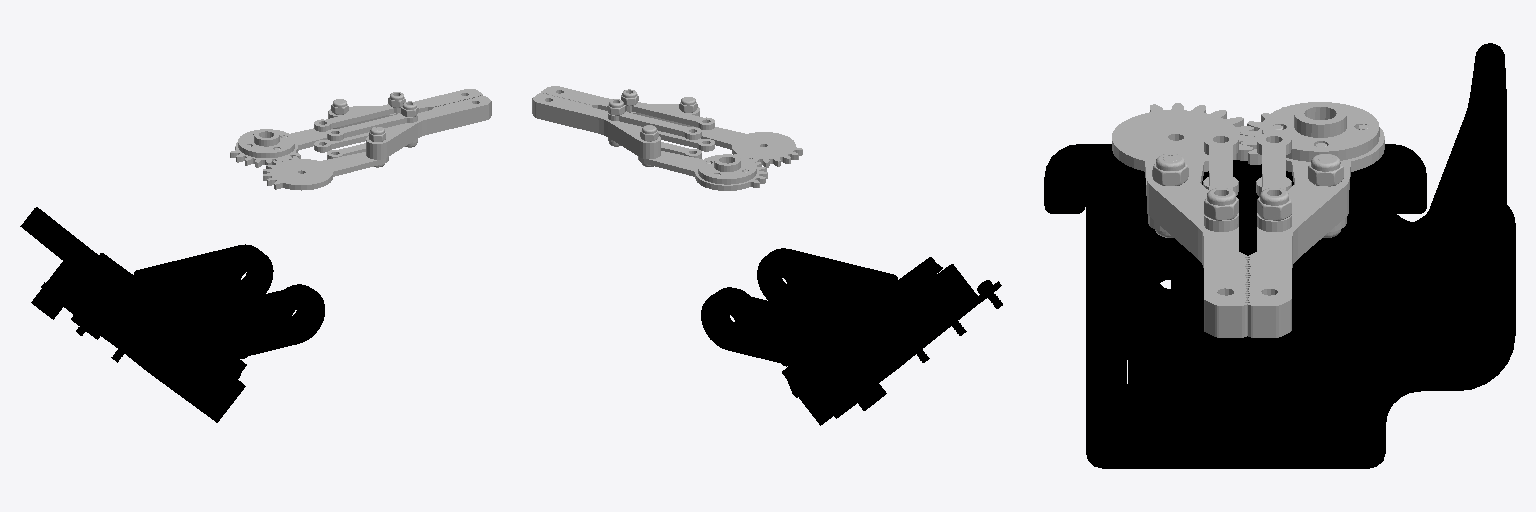
URDF robot description (transbot_description):
<?xml version="1.0" encoding="utf-8"?>
<!-- This URDF was automatically created by SolidWorks to URDF Exporter! Originally created by [author] ([email redacted]) 
     Commit Version: 1.6.0-1-g15f4949  Build Version: 1.6.7594.29634
     For more information, please see http://wiki.ros.org/sw_urdf_exporter -->
<robot name="transbot_description">
    <link name="base_footprint"/>
    <link name="base_link">
        <inertial>
            <origin xyz="-0.011 0.0002 -0.00832" rpy="0 0 0"/>
            <mass value="1.1011218463245"/>
            <inertia
                    ixx="0.00683403160871643"
                    ixy="-1.43326126624159E-06"
                    ixz="0.000665507738691208"
                    iyy="0.0091844048006001"
                    iyz="3.7191085325542E-06"
                    izz="0.0114582299070878"/>
        </inertial>
        <visual>
            <origin xyz="0 0 0" rpy="0 0 -1.5708"/>
            <geometry>
                <mesh filename="package://transbot_description/meshes/base_link.STL"/>
            </geometry>
            <material name="">
                <color rgba="0 0.7 0 1"/>
            </material>
        </visual>
        <collision>
            <origin xyz="0 0 0" rpy="0 0 -1.5708"/>
            <geometry>
                <mesh filename="package://transbot_description/meshes/base_link.STL"/>
            </geometry>
        </collision>
    </link>
    <joint name="base_joint" type="fixed">
        <parent link="base_footprint"/>
        <child link="base_link"/>
        <origin xyz="0.0 0.0 0.08" rpy="0 0 0"/>
    </joint>
    <link name="astra_link">
        <inertial>
            <origin xyz="0.0003 -3.63185E-06 -0.01238" rpy="0 0 0"/>
            <mass value="0.249477026881758"/>
            <inertia
                    ixx="0.000512759440122099"
                    ixy="3.59531977965561E-08"
                    ixz="-7.77105312830466E-06"
                    iyy="0.000168771991127263"
                    iyz="4.52266817392523E-08"
                    izz="0.000428421579554258"/>
        </inertial>
        <visual>
            <origin xyz="0 0 0" rpy="0 0 0"/>
            <geometry>
                <mesh filename="package://transbot_description/meshes/astra_link.STL"/>
            </geometry>
            <material name="">
                <color rgba="0.7 0.7 0.7 1"/>
            </material>
        </visual>
        <collision>
            <origin xyz="0 0 0" rpy="0 0 0"/>
            <geometry>
                <mesh filename="package://transbot_description/meshes/astra_link.STL"/>
            </geometry>
        </collision>
    </link>
    <joint name="astra_joint" type="revolute">
        <origin xyz="0.0484 0 0.10494" rpy="0 0 0"/>
        <parent link="base_link"/>
        <child link="astra_link"/>
        <axis xyz="0 0 1"/>
        <limit lower="-0.52358" upper="0.52358" effort="100" velocity="1"/>
    </joint>
    <link name="arm">
        <inertial>
            <origin xyz="-0.006174 8.44369E-05 0.0132" rpy="0 0 0"/>
            <mass value="0.067681113134478"/>
            <inertia
                    ixx="2.68497509518873E-05"
                    ixy="-3.33020165981552E-06"
                    ixz="-9.65563060195426E-07"
                    iyy="3.51677567732461E-05"
                    iyz="-4.72072757937217E-06"
                    izz="4.4994530861743E-05"/>
        </inertial>
        <visual>
            <origin xyz="0 0 0" rpy="0 0 0"/>
            <geometry>
                <mesh filename="package://transbot_description/meshes/arm.STL"/>
            </geometry>
            <material name="">
                <color rgba="0 0 0 1"/>
            </material>
        </visual>
        <collision>
            <origin xyz="0 0 0" rpy="0 0 0"/>
            <geometry>
                <mesh filename="package://transbot_description/meshes/arm.STL"/>
            </geometry>
        </collision>
    </link>
    <joint name="arm_joint" type="fixed">
        <origin xyz="0.12925 0 -0.014083" rpy="-0.7854 0 -1.5708"/>
        <parent link="base_link"/>
        <child link="arm"/>
        <axis xyz="0 0 0"/>
    </joint>
    <link name="arm_link1">
        <inertial>
            <origin xyz="-0.00227 0.024777 0.000485" rpy="0 1.5708 0"/>
            <mass value="0.0315348657457593"/>
            <inertia
                    ixx="2.62365924906028E-05"
                    ixy="-8.71620806198248E-07"
                    ixz="3.70960358896292E-09"
                    iyy="5.75254728345384E-06"
                    iyz="1.32494709462361E-07"
                    izz="2.43479091390021E-05"/>
        </inertial>
        <visual>
            <origin xyz="0 0 0" rpy="0 0 0"/>
            <geometry>
                <mesh filename="package://transbot_description/meshes/arm_link1.STL"/>
            </geometry>
            <material name="">
                <color rgba="0.75294 0.75294 0.75294 1"/>
            </material>
        </visual>
        <collision>
            <origin xyz="0 0 0" rpy="0 0 0"/>
            <geometry>
                <mesh filename="package://transbot_description/meshes/arm_link1.STL"/>
            </geometry>
        </collision>
    </link>
    <joint name="arm_joint1" type="revolute">
        <origin xyz="0 0.0295 0.0471" rpy="0 -1.5708 3.14"/>
        <parent link="arm"/>
        <child link="arm_link1"/>
        <axis xyz="0 0 1"/>
        <limit lower="-3.927" upper="0" effort="100" velocity="1"/>
    </joint>
    <link name="arm_link2">
        <inertial>
            <origin xyz="-0.012 0.04428 -0.00083" rpy="0 0 0"/>
            <mass value="0.064068284960248"/>
            <inertia
                    ixx="5.32496834034383E-05"
                    ixy="1.14801087297394E-05"
                    ixz="-7.21376567958445E-07"
                    iyy="1.94399604109465E-05"
                    iyz="1.57043385958373E-06"
                    izz="5.71389111747307E-05"/>
        </inertial>
        <visual>
            <origin xyz="0 0 0" rpy="0 0 0"/>
            <geometry>
                <mesh filename="package://transbot_description/meshes/arm_link2.STL"/>
            </geometry>
            <material name="">
                <color rgba="0 0.7 0 1"/>
            </material>
        </visual>
        <collision>
            <origin xyz="0 0 0" rpy="0 0 0"/>
            <geometry>
                <mesh filename="package://transbot_description/meshes/arm_link2.STL"/>
            </geometry>
        </collision>
    </link>
    <joint name="arm_joint2" type="revolute">
        <origin xyz="0 0.08285 0" rpy="0 0 -2.3562"/>
        <parent link="arm_link1"/>
        <child link="arm_link2"/>
        <axis xyz="0 0 1"/>
        <limit lower="-0.2617" upper="3.926875" effort="100" velocity="1"/>
    </joint>
    <link name="right_link1">
        <inertial>
            <origin xyz="-0.00022 0.0042 0.0001565" rpy="0 0 0"/>
            <mass value="0.00183348845051841"/>
            <inertia
                    ixx="2.0324777292641E-07"
                    ixy="-8.64022960782153E-09"
                    ixz="3.40379009885252E-10"
                    iyy="5.15029451291985E-08"
                    iyz="-6.50409742399053E-09"
                    izz="2.47897272989704E-07"/>
        </inertial>
        <visual>
            <origin xyz="0 0 0" rpy="0 0 0"/>
            <geometry>
                <mesh filename="package://transbot_description/meshes/right_link1.STL"/>
            </geometry>
            <material name="">
                <color rgba="0.75294 0.75294 0.75294 1"/>
            </material>
        </visual>
        <collision>
            <origin xyz="0 0 0" rpy="0 0 0"/>
            <geometry>
                <mesh filename="package://transbot_description/meshes/right_link1.STL"/>
            </geometry>
        </collision>
    </link>
    <joint name="Jaws_joint" type="revolute">
        <origin xyz="0.0045 0.06415 -0.01185" rpy="0 1.5708 0"/>
        <parent link="arm_link2"/>
        <child link="right_link1"/>
        <axis xyz="0 0 1"/>
        <limit lower="-1.6" upper="0" effort="100" velocity="1"/>
    </joint>
    <link name="right_link2">
        <inertial>
            <origin xyz="-0.0062 0.020796 -0.0031" rpy="0 0 0"/>
            <mass value="0.00249011366902266"/>
            <inertia
                    ixx="6.52013082134657E-07"
                    ixy="1.28158340799434E-07"
                    ixz="1.32545668593733E-09"
                    iyy="5.40527011205097E-08"
                    iyz="-4.44570381398951E-09"
                    izz="6.84401893462913E-07"/>
        </inertial>
        <visual>
            <origin xyz="0 0 0" rpy="0 0 0"/>
            <geometry>
                <mesh filename="package://transbot_description/meshes/right_link2.STL"/>
            </geometry>
            <material name="">
                <color rgba="0.75294  0.75294 0.75294 1"/>
            </material>
        </visual>
        <collision>
            <origin xyz="0 0 0" rpy="0 0 0"/>
            <geometry>
                <mesh filename="package://transbot_description/meshes/right_link2.STL"/>
            </geometry>
        </collision>
    </link>
    <joint name="right_joint2" type="continuous">
        <origin xyz="0.0009 0.03 0" rpy="0 0 0"/>
        <parent link="right_link1"/>
        <child link="right_link2"/>
        <axis xyz="0 0 -1"/>
        <mimic joint="Jaws_joint" multiplier="1"/>
    </joint>
    <link name="right_link3">
        <inertial>
            <origin xyz="6.84923716706099E-05 0.018624 -0.00265" rpy="0 0 0"/>
            <mass value="0.000745"/>
            <inertia
                    ixx="1.04686918388409E-07"
                    ixy="-3.26477129854809E-10"
                    ixz="1.48779762241015E-11"
                    iyy="1.59187935398975E-08"
                    iyz="4.04566802579487E-09"
                    izz="9.13337951601148E-08"/>
        </inertial>
        <visual>
            <origin xyz="0 0 0" rpy="0 0 0"/>
            <geometry>
                <mesh filename="package://transbot_description/meshes/right_link3.STL"/>
            </geometry>
            <material name="">
                <color rgba="0.75294 0.75294 0.75294 1"/>
            </material>
        </visual>
        <collision>
            <origin xyz="0 0 0" rpy="0 0 0"/>
            <geometry>
                <mesh filename="package://transbot_description/meshes/right_link3.STL"/>
            </geometry>
        </collision>
    </link>
    <joint name="right_joint3" type="continuous">
        <origin xyz="0.0045 0.08215 -0.00395" rpy="0 1.5708 0"/>
        <parent link="arm_link2"/>
        <child link="right_link3"/>
        <axis xyz="0 0 1"/>
        <mimic joint="right_joint2" multiplier="1"/>
    </joint>
    <link name="left_link1">
        <inertial>
            <origin xyz="0.0002688 0.00628852 0.001" rpy="0 0 0"/>
            <mass value="0.00121"/>
            <inertia
                    ixx="1.69131415914509E-07"
                    ixy="9.14718502533155E-09"
                    ixz="-1.90844103767323E-14"
                    iyy="3.19585470928261E-08"
                    iyz="3.97689754998194E-14"
                    izz="2.00283501063598E-07"/>
        </inertial>
        <visual>
            <origin xyz="0 0 0" rpy="0 0 0"/>
            <geometry>
                <mesh filename="package://transbot_description/meshes/left_link1.STL"/>
            </geometry>
            <material name="">
                <color rgba="0.75294 0.75294 0.75294 1"/>
            </material>
        </visual>
        <collision>
            <origin xyz="0 0 0" rpy="0 0 0"/>
            <geometry>
                <mesh filename="package://transbot_description/meshes/left_link1.STL"/>
            </geometry>
        </collision>
    </link>
    <joint name="left_joint1" type="continuous">
        <origin xyz="0.0045 0.06415 0.0127" rpy="0 1.5708 0"/>
        <parent link="arm_link2"/>
        <child link="left_link1"/>
        <axis xyz="0 0 1"/>
        <mimic joint="Jaws_joint" multiplier="-1"/>
    </joint>
    <link name="left_link2">
        <inertial>
            <origin xyz="0.0062 0.0208 -0.0031" rpy="0 0 0"/>
            <mass value="0.00249011366902267"/>
            <inertia
                    ixx="6.52017871569716E-07"
                    ixy="-1.28147201790302E-07"
                    ixz="-1.325374459077E-09"
                    iyy="5.40479137210298E-08"
                    iyz="-4.44572858127216E-09"
                    izz="6.84401895498491E-07"/>
        </inertial>
        <visual>
            <origin xyz="0 0 0" rpy="0 0 0"/>
            <geometry>
                <mesh filename="package://transbot_description/meshes/left_link2.STL"/>
            </geometry>
            <material name="">
                <color rgba="0.75294 0.75294 0.75294 1"/>
            </material>
        </visual>
        <collision>
            <origin xyz="0 0 0" rpy="0 0 0"/>
            <geometry>
                <mesh filename="package://transbot_description/meshes/left_link2.STL"/>
            </geometry>
        </collision>
    </link>
    <joint name="left_joint2" type="continuous">
        <origin xyz="-0.00091 0.03 0" rpy="0 0 0"/>
        <parent link="left_link1"/>
        <child link="left_link2"/>
        <axis xyz="0 0 1"/>
        <mimic joint="left_joint1" multiplier="-1"/>
    </joint>
    <link name="left_link3">
        <inertial>
            <origin xyz="8.14319609551461E-05 0.018624 -0.0035" rpy="0 0 0"/>
            <mass value="0.000745"/>
            <inertia
                    ixx="1.04686410925661E-07"
                    ixy="-3.8815108567023E-10"
                    ixz="1.76885865580073E-11"
                    iyy="1.59192877854819E-08"
                    iyz="4.04566084059286E-09"
                    izz="9.13337860026262E-08"/>
        </inertial>
        <visual>
            <origin xyz="0 0 0" rpy="0 0 0"/>
            <geometry>
                <mesh filename="package://transbot_description/meshes/left_link3.STL"/>
            </geometry>
            <material name="">
                <color rgba="0.75294 0.75294 0.75294 1"/>
            </material>
        </visual>
        <collision>
            <origin xyz="0 0 0" rpy="0 0 0"/>
            <geometry>
                <mesh filename="package://transbot_description/meshes/left_link3.STL"/>
            </geometry>
        </collision>
    </link>
    <joint name="left_joint3" type="continuous">
        <origin xyz="0.0045 0.08215 0.00505" rpy="0 1.5708 0"/>
        <parent link="arm_link2"/>
        <child link="left_link3"/>
        <axis xyz="0 0 1"/>
        <mimic joint="left_joint2" multiplier="-1"/>
    </joint>
</robot>

--- Render facts (derived) ---
3 views of the same robot in one strip: view 1: azimuth 30°, elevation 25°; view 2: azimuth 150°, elevation 25°; view 3: azimuth 270°, elevation 25° (orthographic).
Model transbot_description with 12 links and 11 joints (4 revolute, 5 continuous, 2 fixed), rooted at base_footprint, posed all joints at 0.
Links seen in each view (by area): view 1: arm, left_link2, left_link1, right_link1, right_link3, left_link3, right_link2; view 2: arm, right_link2, right_link1, left_link1, left_link3, right_link3, left_link2; view 3: arm, right_link2, left_link2, right_link1, left_link1, right_link3, left_link3.
Link boxes in pixels (<box>): arm: <box>20,207,324,422</box>; left_link2: <box>366,96,491,167</box>; left_link1: <box>263,152,388,190</box>; right_link1: <box>230,128,327,167</box>; right_link3: <box>314,92,405,152</box>; left_link3: <box>327,101,418,159</box>; right_link2: <box>328,89,482,128</box>; arm: <box>701,248,1002,425</box>; right_link2: <box>532,93,660,166</box>; right_link1: <box>638,151,767,190</box>; left_link1: <box>701,127,802,167</box>; left_link3: <box>621,89,714,151</box>; right_link3: <box>607,99,701,158</box>; left_link2: <box>541,86,699,127</box>; arm: <box>1044,43,1515,468</box>; right_link2: <box>1248,154,1348,337</box>; left_link2: <box>1147,154,1247,337</box>; right_link1: <box>1240,102,1384,231</box>; left_link1: <box>1112,103,1256,231</box>; right_link3: <box>1256,132,1291,231</box>; left_link3: <box>1203,132,1238,231</box>.
Bounding box of the posed robot: 0.1655 × 0.08 × 0.0936 m (x, y, z).
7 mesh visuals loaded from 11 distinct referenced files (7 binary STL); not drawn: 4 (reference not matched to a file when rendering).